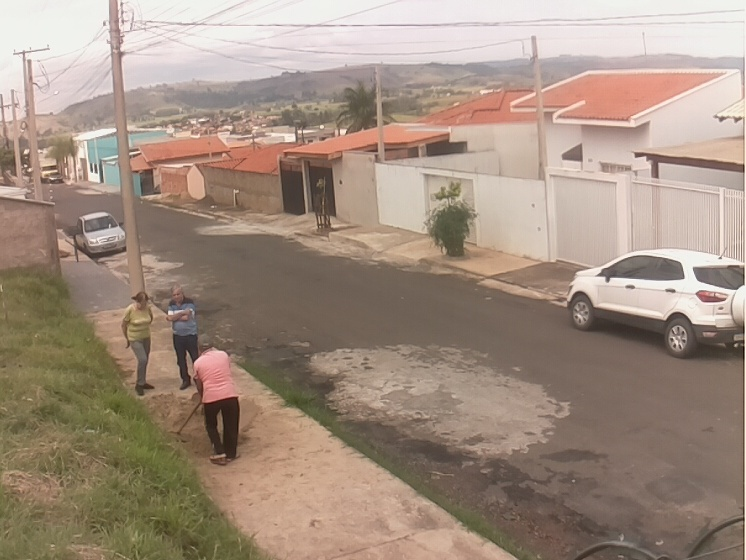person: (192, 336, 242, 462), (164, 285, 204, 392), (122, 292, 158, 396)
